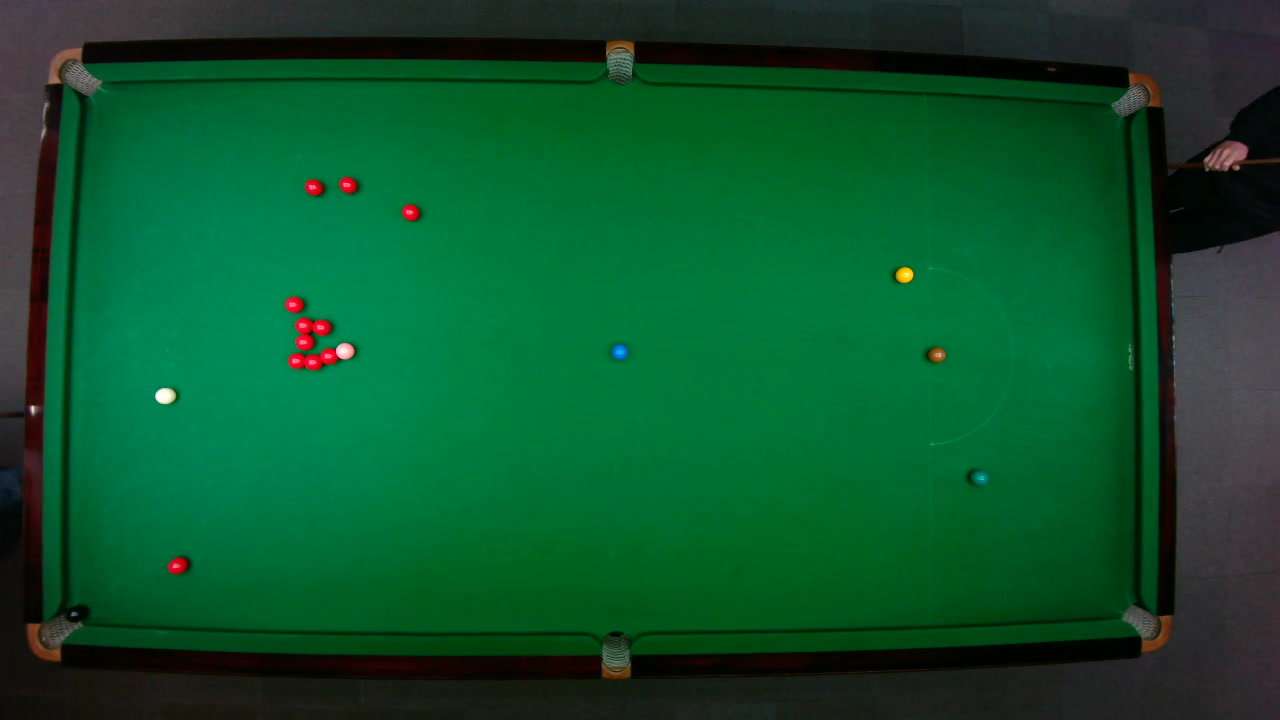bag: (25, 608, 82, 661), (45, 46, 101, 96), (1119, 603, 1171, 652), (1108, 71, 1161, 118), (600, 629, 630, 680), (605, 38, 633, 85)
black: (64, 605, 84, 622)
blue: (610, 342, 628, 360)
brown: (926, 346, 945, 362)
green: (969, 468, 989, 485)
pink: (334, 341, 355, 360)
red: (165, 555, 189, 575), (302, 177, 324, 196), (310, 317, 332, 335), (302, 352, 323, 370), (293, 333, 314, 351), (337, 175, 358, 193), (282, 295, 304, 312), (400, 203, 420, 221), (286, 351, 305, 369), (319, 346, 337, 365), (293, 316, 312, 333)
white: (153, 385, 177, 404)
yellow: (893, 265, 914, 283)
zone: (926, 265, 1013, 445)
